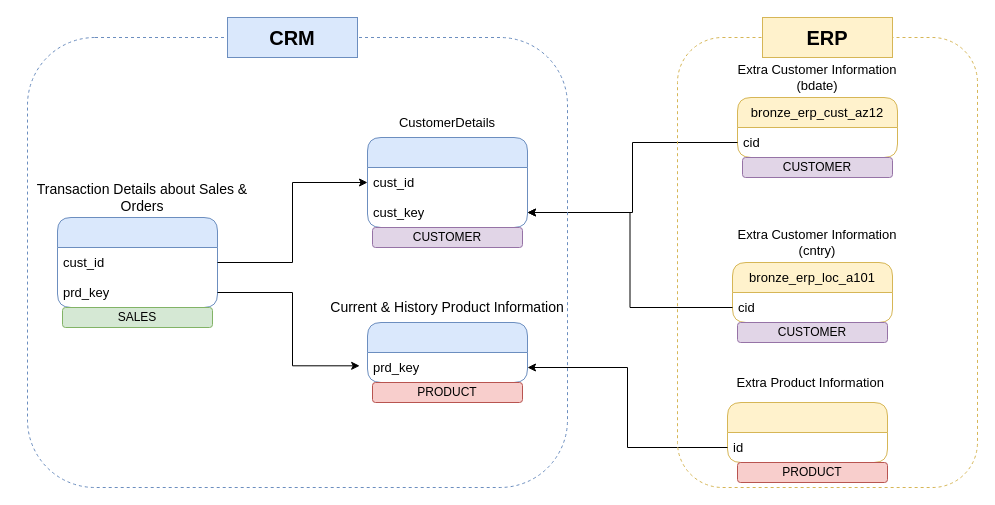
Image size: 995x505. Some labels were removed from this diagram. The shapes that lost their labels are listed below. From the top down, each one's box as (x1, y1, x2, y2) in pixels, then its label:
(366, 136, 528, 228): bronze_crm_cust_info
(56, 216, 218, 308): bronze_crm_sales_details
(366, 322, 528, 382): bronze_crm_prd_info
(726, 402, 888, 462): bronze_erp_px_cat_g1v2
